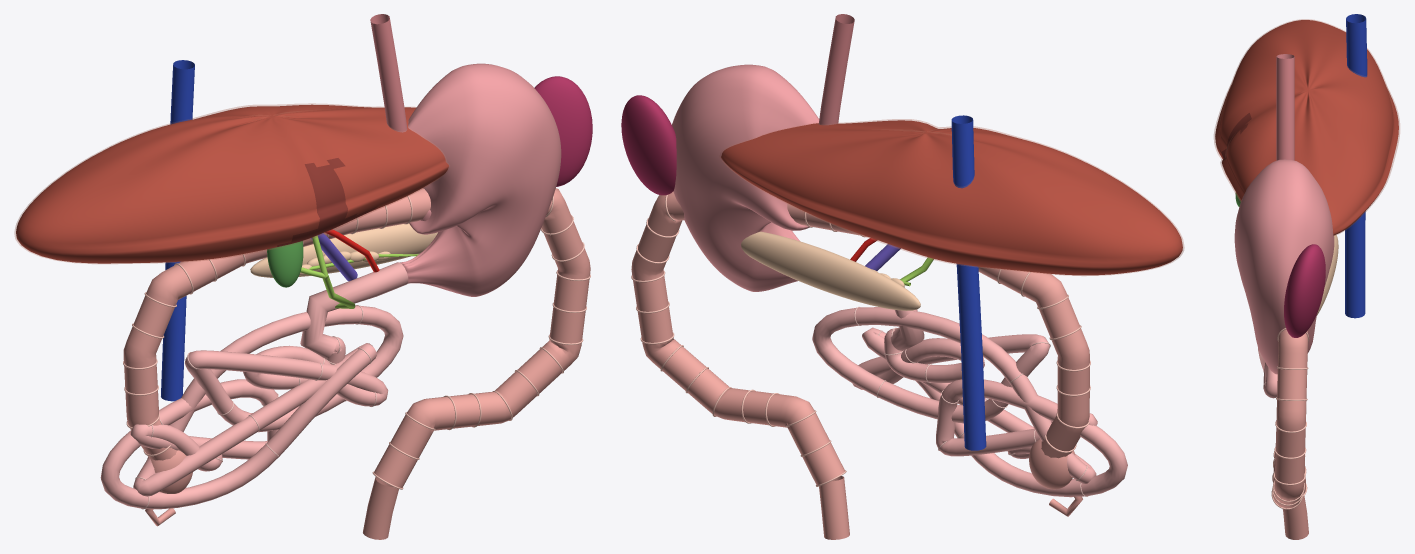
The model's file is organebun.fbx.
3 renders of one model, left to right at view 1: azimuth 30°, elevation 25°; view 2: azimuth 150°, elevation 25°; view 3: azimuth 270°, elevation 25°, orthographic. The views are drawn at different scales.
Parts seen in each view (by area): view 1: Capsula Glisson, Ficat, Intestin subtire - jejun si ileon, Stomac, Colon - intestin gros, Splina, Vena cava inferioara - VCI, Duoden, Pancreas, Esofag, Rect, Vezica biliara (+2 smaller); view 2: Capsula Glisson, Ficat, Intestin subtire - jejun si ileon, Colon - intestin gros, Stomac, Pancreas, Vena cava inferioara - VCI, Splina, Esofag, Rect, Cec, Duoden; view 3: Capsula Glisson, Ficat, Stomac, Colon - intestin gros, Vena cava inferioara - VCI, Splina, Esofag, Rect, Intestin subtire - jejun si ileon, Pancreas.
Part boxes in pixels (x1,y1,x2,y2): Capsula Glisson: (14, 103, 449, 263); Ficat: (16, 104, 448, 263); Intestin subtire - jejun si ileon: (100, 305, 403, 509); Stomac: (400, 63, 561, 296); Colon - intestin gros: (123, 188, 590, 487); Splina: (534, 76, 592, 186); Vena cava inferioara - VCI: (161, 60, 194, 401); Duoden: (300, 262, 408, 359); Pancreas: (250, 223, 437, 277); Esofag: (370, 14, 407, 132); Rect: (363, 476, 398, 539); Vezica biliara: (267, 241, 303, 287); Capsula Glisson: (719, 119, 1184, 275); Ficat: (721, 120, 1182, 275); Intestin subtire - jejun si ileon: (812, 307, 1127, 497); Colon - intestin gros: (631, 191, 1089, 485); Stomac: (672, 64, 819, 291); Pancreas: (741, 231, 920, 310); Vena cava inferioara - VCI: (951, 115, 986, 450); Splina: (621, 95, 676, 195); Esofag: (818, 14, 854, 125); Rect: (819, 476, 849, 539); Cec: (1029, 439, 1075, 489); Duoden: (890, 309, 924, 350); Capsula Glisson: (1214, 19, 1399, 235); Ficat: (1215, 20, 1398, 235); Stomac: (1234, 159, 1334, 374); Colon - intestin gros: (1272, 329, 1307, 508); Vena cava inferioara - VCI: (1345, 14, 1367, 318); Splina: (1284, 244, 1325, 337); Esofag: (1276, 54, 1294, 160); Rect: (1282, 496, 1308, 539); Intestin subtire - jejun si ileon: (1258, 348, 1277, 398); Pancreas: (1317, 235, 1338, 315).
Size of the model in its own units: 621 by 547 by 193.
